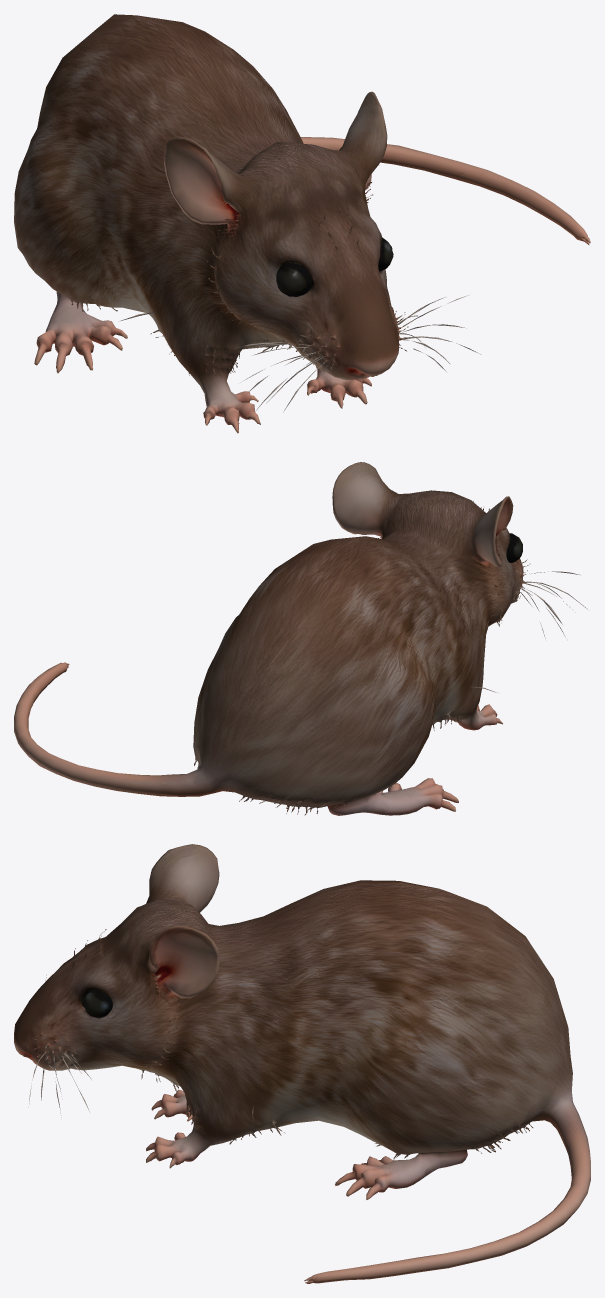
The picture shows the model from 3 angles, top to bottom: view 1: azimuth 30°, elevation 25°; view 2: azimuth 150°, elevation 25°; view 3: azimuth 270°, elevation 25°; orthographic projection. The views are drawn at different scales.
Parts seen in each view (by area): view 1: tripo_node_efb06689-516c-4f51-9e6b-0e02fe82922f; view 2: tripo_node_efb06689-516c-4f51-9e6b-0e02fe82922f; view 3: tripo_node_efb06689-516c-4f51-9e6b-0e02fe82922f.
Boxes of the visible parts, bbox=[...] form: tripo_node_efb06689-516c-4f51-9e6b-0e02fe82922f: bbox=[14, 14, 590, 433]; tripo_node_efb06689-516c-4f51-9e6b-0e02fe82922f: bbox=[14, 462, 587, 815]; tripo_node_efb06689-516c-4f51-9e6b-0e02fe82922f: bbox=[14, 844, 590, 1283].
Bounding box in the file's own units: 0.916 × 0.498 × 0.998.
1 material, 1 textured.
